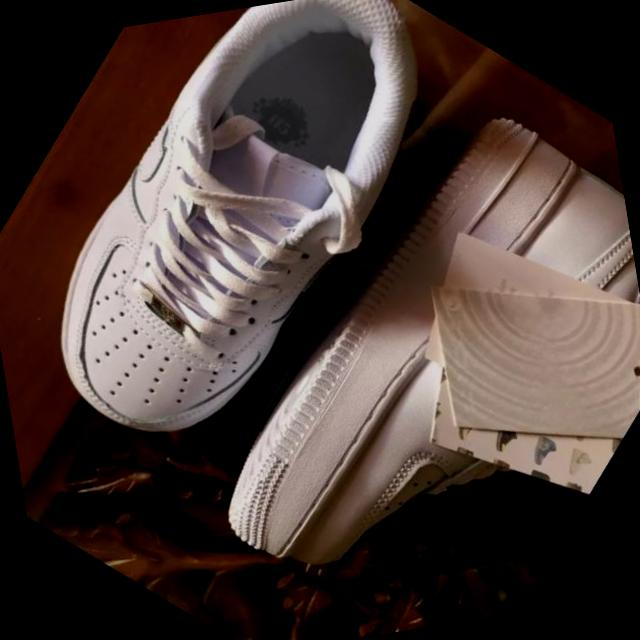nike_fake_airforce: (0, 0, 525, 510)
